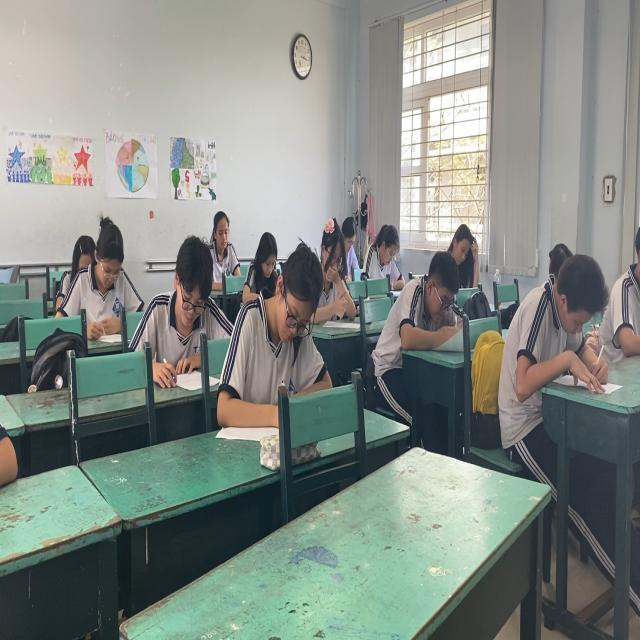not_cheating: (243, 236, 325, 426), (514, 247, 615, 395), (135, 236, 230, 377), (65, 208, 148, 336), (406, 251, 459, 364), (312, 225, 351, 301), (366, 222, 405, 284), (208, 212, 234, 284), (440, 225, 473, 271)
